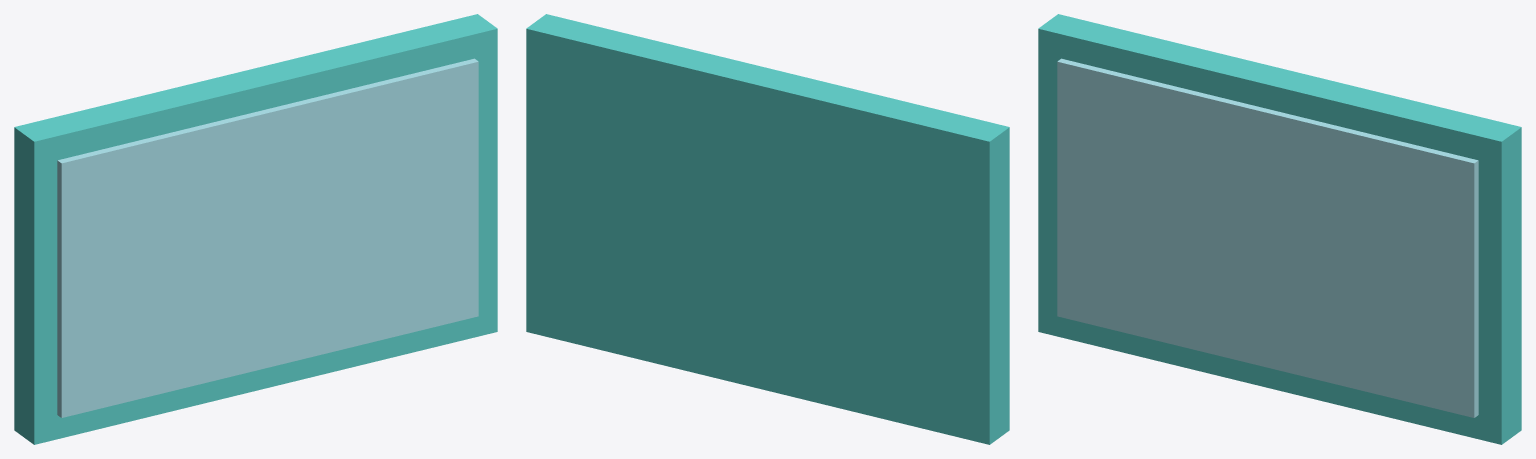
Rendered from answer_board.glb.
The picture shows the model from 3 angles, left to right: view 1: azimuth 30°, elevation 25°; view 2: azimuth 150°, elevation 25°; view 3: azimuth 330°, elevation 25°; orthographic projection.
Parts seen in each view (by area): view 1: answer_board; view 2: answer_board; view 3: answer_board.
Boxes of the visible parts, left/top/right/bottom form: answer_board: left=14, top=14, right=497, bottom=444; answer_board: left=526, top=14, right=1009, bottom=444; answer_board: left=1038, top=14, right=1521, bottom=444.
Size of the model in its own units: 1.6 by 1 by 0.145.
